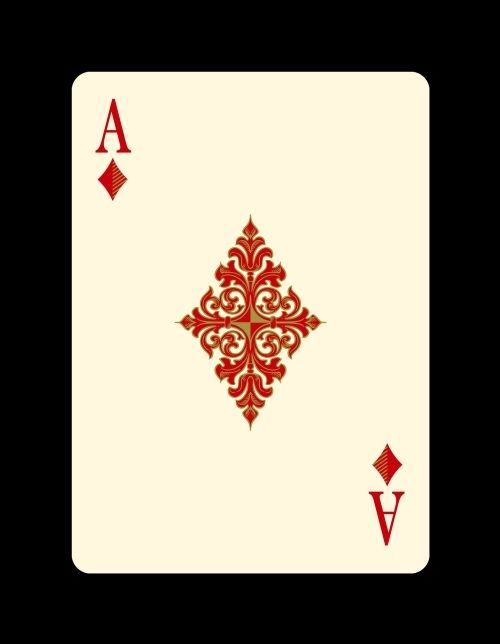ace of diamonds: (71, 71, 429, 574)
